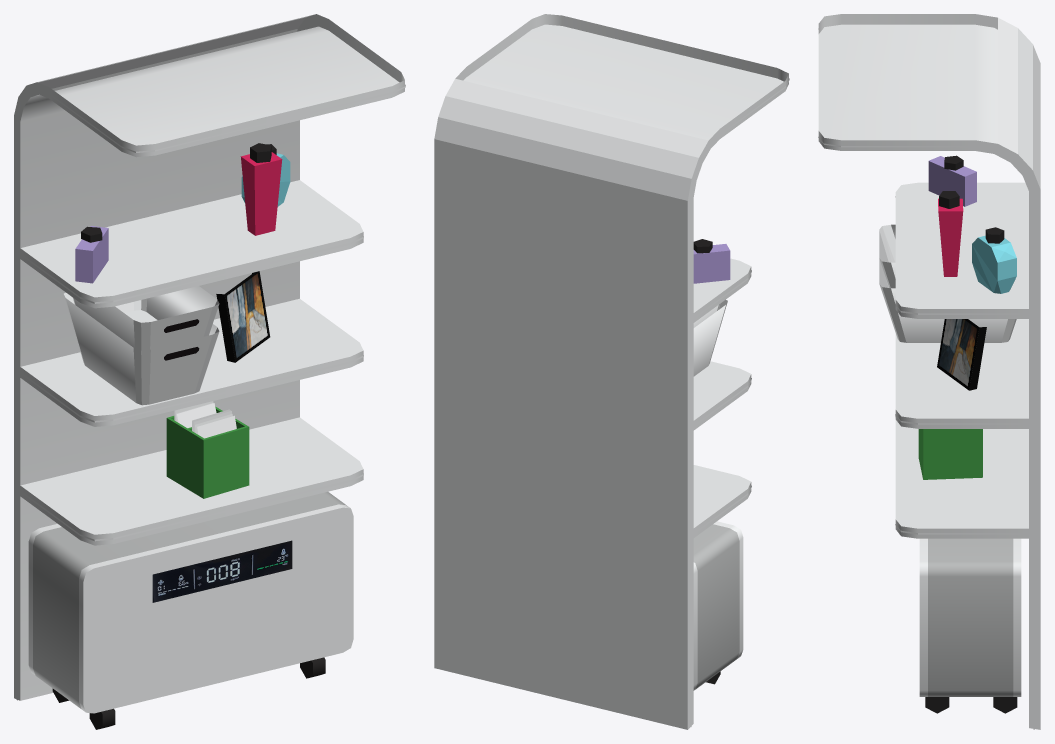
The model's file is M_BRchuangtoujia02.FBX.
3 renders of one model, left to right at view 1: azimuth 30°, elevation 25°; view 2: azimuth 150°, elevation 25°; view 3: azimuth 270°, elevation 25°, orthographic. The views are drawn at different scales.
Visible parts, largest first — view 1: M_BRchuangtoujia02_01, M_BRchuangtoujia02_05, M_BRchuangtoujia02_02, M_BRchuangtoujia02_03, M_BRchuangtoujia02_04; view 2: M_BRchuangtoujia02_01, M_BRchuangtoujia02_02; view 3: M_BRchuangtoujia02_01, M_BRchuangtoujia02_03, M_BRchuangtoujia02_05, M_BRchuangtoujia02_02, M_BRchuangtoujia02_04.
Part boxes in pixels (<box>): M_BRchuangtoujia02_01: <box>14,14,404,713</box>; M_BRchuangtoujia02_05: <box>152,271,292,602</box>; M_BRchuangtoujia02_02: <box>16,84,405,700</box>; M_BRchuangtoujia02_03: <box>166,406,249,498</box>; M_BRchuangtoujia02_04: <box>52,401,325,729</box>; M_BRchuangtoujia02_01: <box>434,14,788,729</box>; M_BRchuangtoujia02_02: <box>691,78,789,726</box>; M_BRchuangtoujia02_01: <box>818,14,1040,729</box>; M_BRchuangtoujia02_03: <box>918,429,982,479</box>; M_BRchuangtoujia02_05: <box>937,319,986,390</box>; M_BRchuangtoujia02_02: <box>818,28,1034,729</box>; M_BRchuangtoujia02_04: <box>925,697,1017,713</box>.
Size of the model in its own units: 1.32 by 2.87 by 0.9819.
